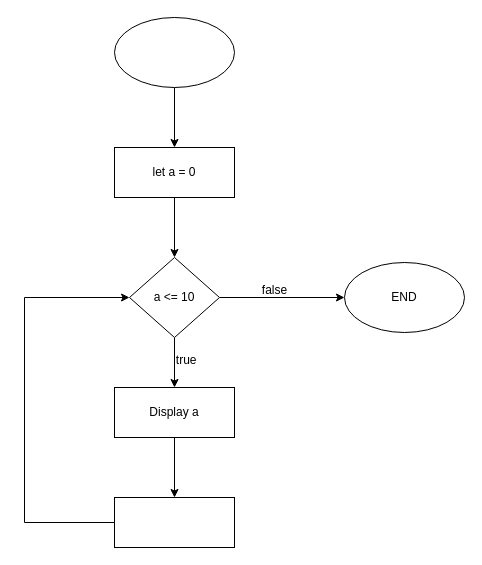
Some shapes in this 482 by 565 pixel diagram are drawn without their labels. Each missing label, with the centre of its shape:
"a++" belongs at [174,522].
"BEGIN" belongs at [174,52].
